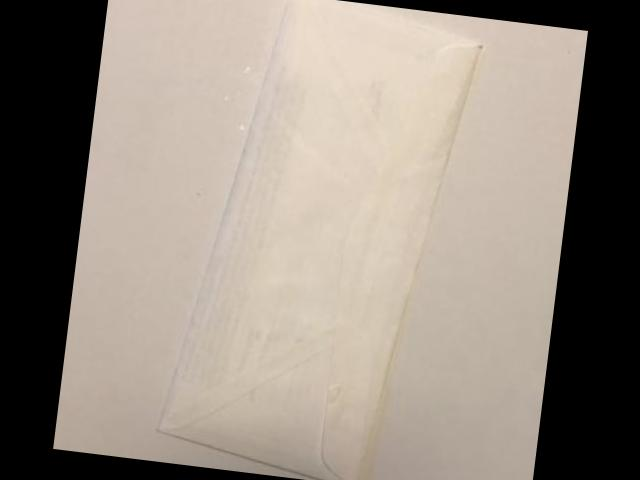cardboard paper: (156, 0, 479, 480)
